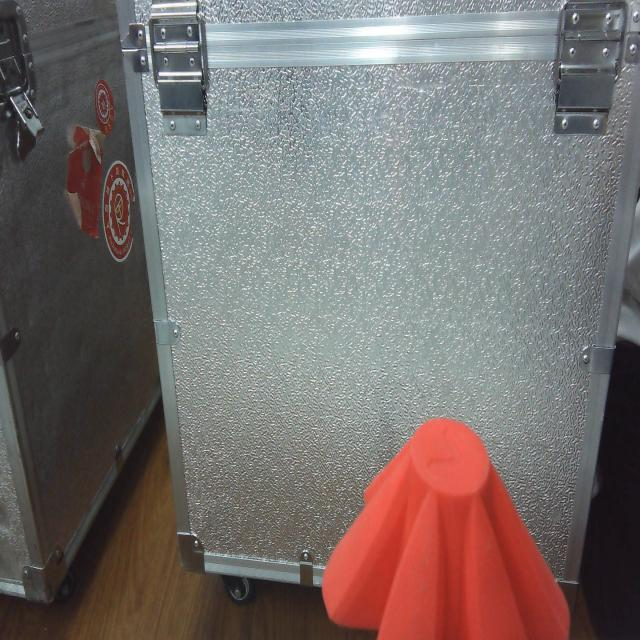zred-Stake-Head: (323, 416, 571, 640)
